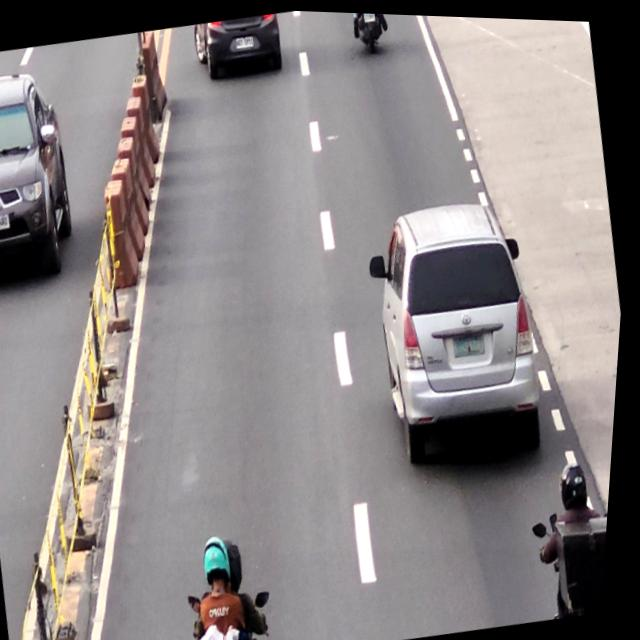Car: (364, 184, 562, 462), (188, 9, 284, 77)
License-Plate: (455, 329, 491, 354)
Motorcycle: (534, 453, 617, 616), (180, 530, 279, 640), (348, 10, 388, 52)
